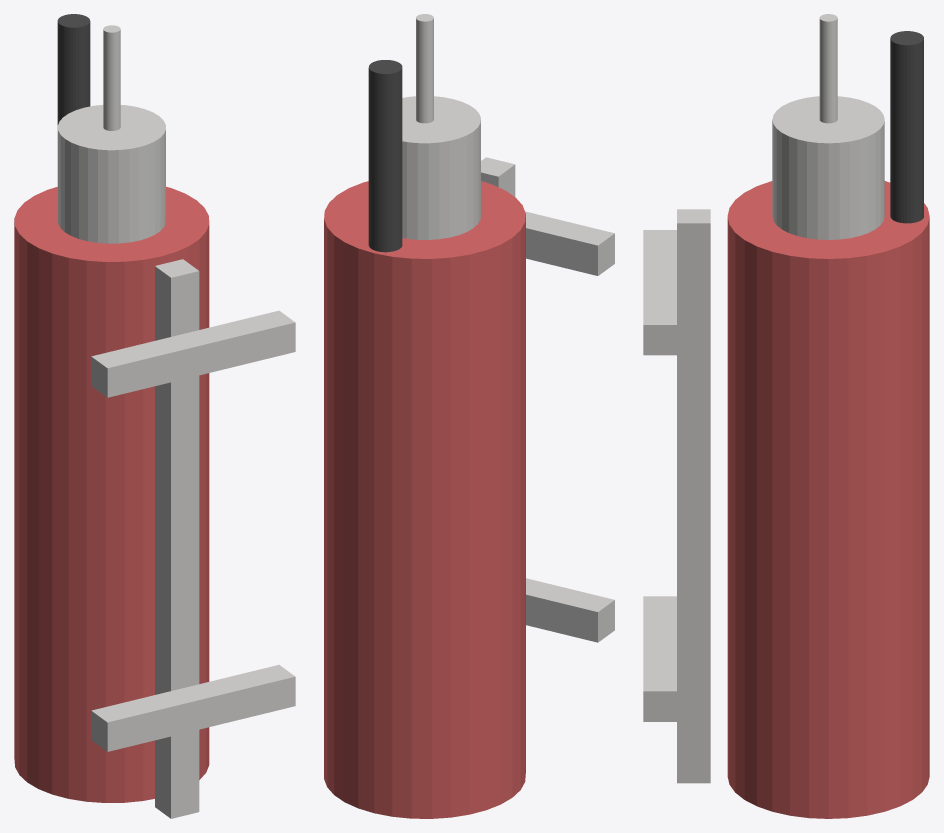
Rendered from prop_fire_extinguisher.fbx.
3 views of the same model, side by side, from view 1: azimuth 30°, elevation 25°; view 2: azimuth 150°, elevation 25°; view 3: azimuth 270°, elevation 25° (orthographic). The views are drawn at different scales.
Visible parts, largest first — view 1: Ext_Body, Ext_Bracket_V, Ext_Top, Ext_Bracket_H1, Ext_Bracket_H2, Ext_Nozzle, Ext_Handle; view 2: Ext_Body, Ext_Top, Ext_Nozzle, Ext_Bracket_H1, Ext_Bracket_H2, Ext_Handle, Ext_Bracket_V; view 3: Ext_Body, Ext_Bracket_V, Ext_Top, Ext_Nozzle, Ext_Bracket_H1, Ext_Bracket_H2, Ext_Handle.
Part boxes in pixels (x1,y1,x2,y2): Ext_Body: (14, 186, 209, 802); Ext_Bracket_V: (155, 259, 199, 818); Ext_Top: (57, 105, 165, 243); Ext_Bracket_H1: (91, 310, 295, 397); Ext_Bracket_H2: (91, 665, 295, 751); Ext_Nozzle: (57, 14, 90, 125); Ext_Handle: (103, 25, 120, 130); Ext_Body: (324, 181, 525, 818); Ext_Top: (402, 96, 480, 239); Ext_Nozzle: (368, 60, 402, 252); Ext_Bracket_H1: (525, 211, 614, 275); Ext_Bracket_H2: (526, 578, 614, 642); Ext_Handle: (416, 14, 433, 123); Ext_Bracket_V: (481, 157, 515, 196); Ext_Body: (727, 181, 929, 818); Ext_Bracket_V: (677, 209, 710, 783); Ext_Top: (772, 96, 884, 239); Ext_Nozzle: (890, 31, 923, 223); Ext_Bracket_H1: (643, 230, 676, 355); Ext_Bracket_H2: (643, 596, 676, 721); Ext_Handle: (819, 14, 837, 123).
Size of the model in its own units: 20 by 74.5 by 25.5.
